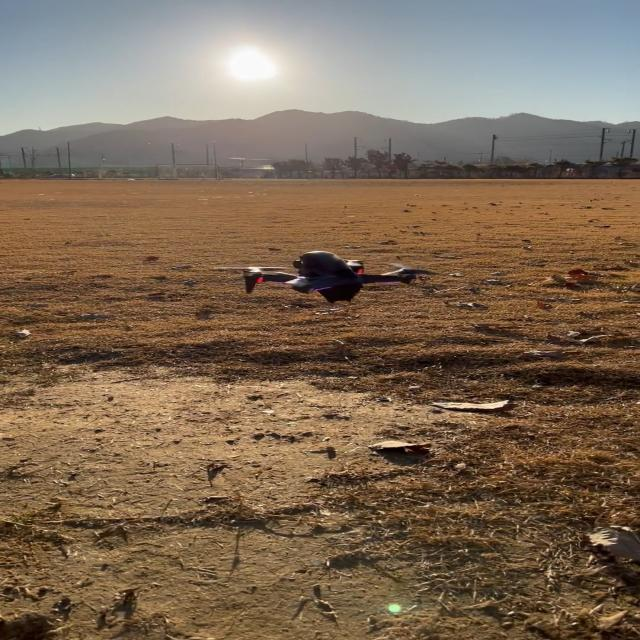drone: (212, 250, 436, 304)
